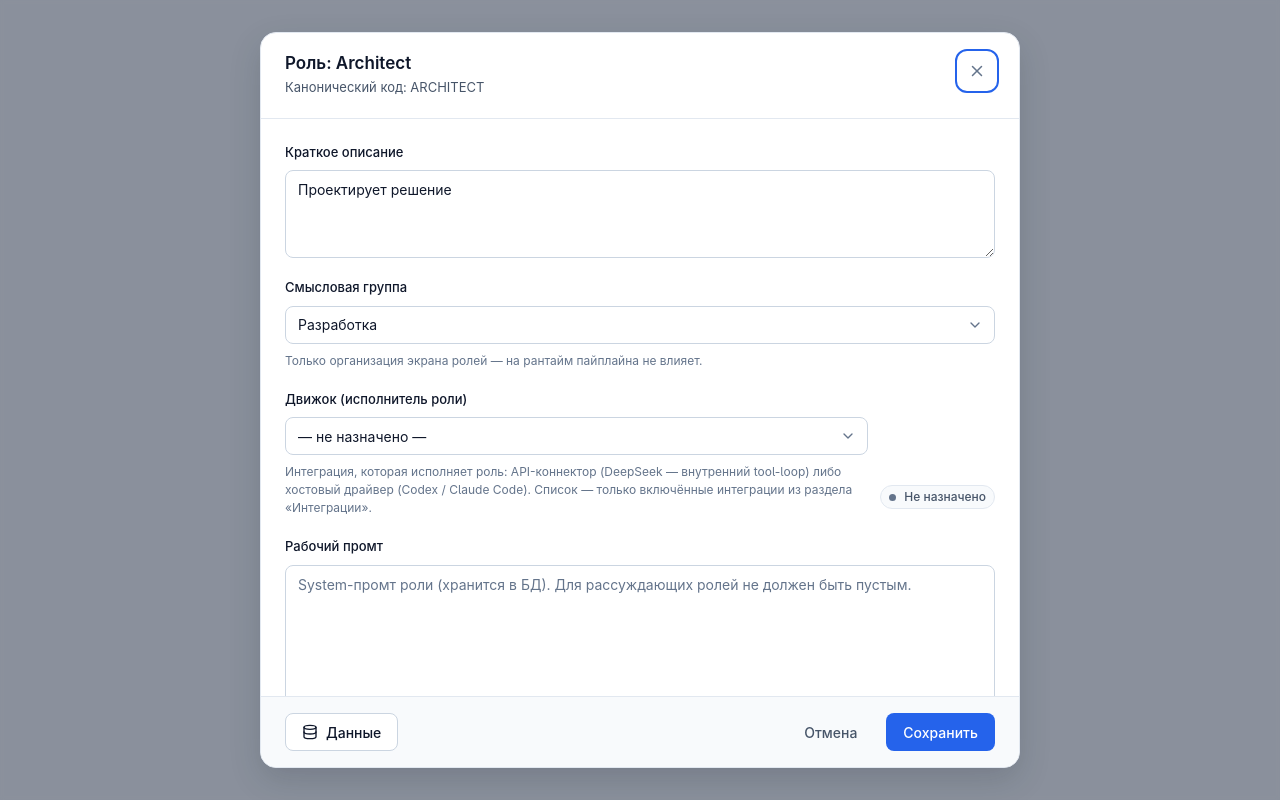
Test: RoleCardModal — карточка роли › выбор драйвера показывает подсказку про хостовый драйвер
Select "Codex (драйвер)" in the dropdown labelled "Движок (исполнитель роли)" at (577, 436), box [285,417,868,455]
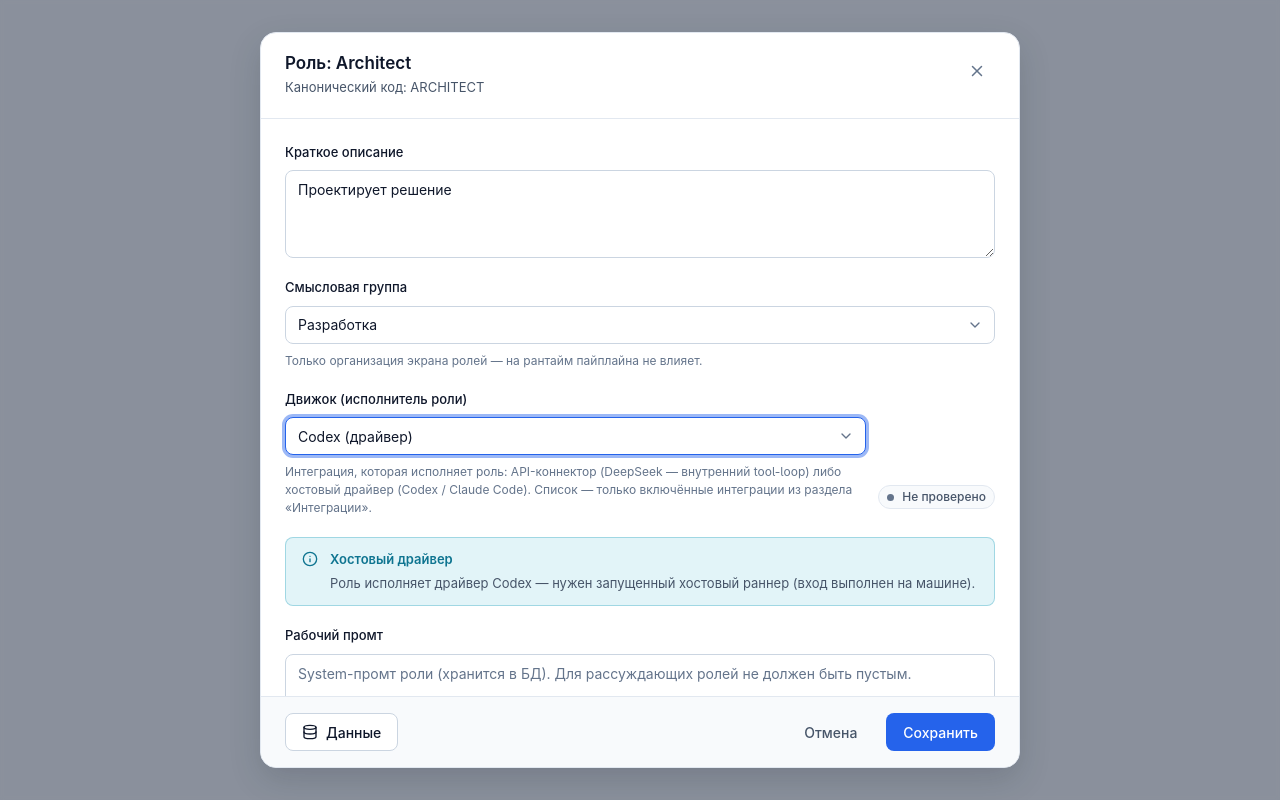
expect the text "Хостовый драйвер" is shown: met, box [330,551,453,567]
expect the text "Роль исполняет драйвер Codex" is shown: met, box [330,574,975,593]
